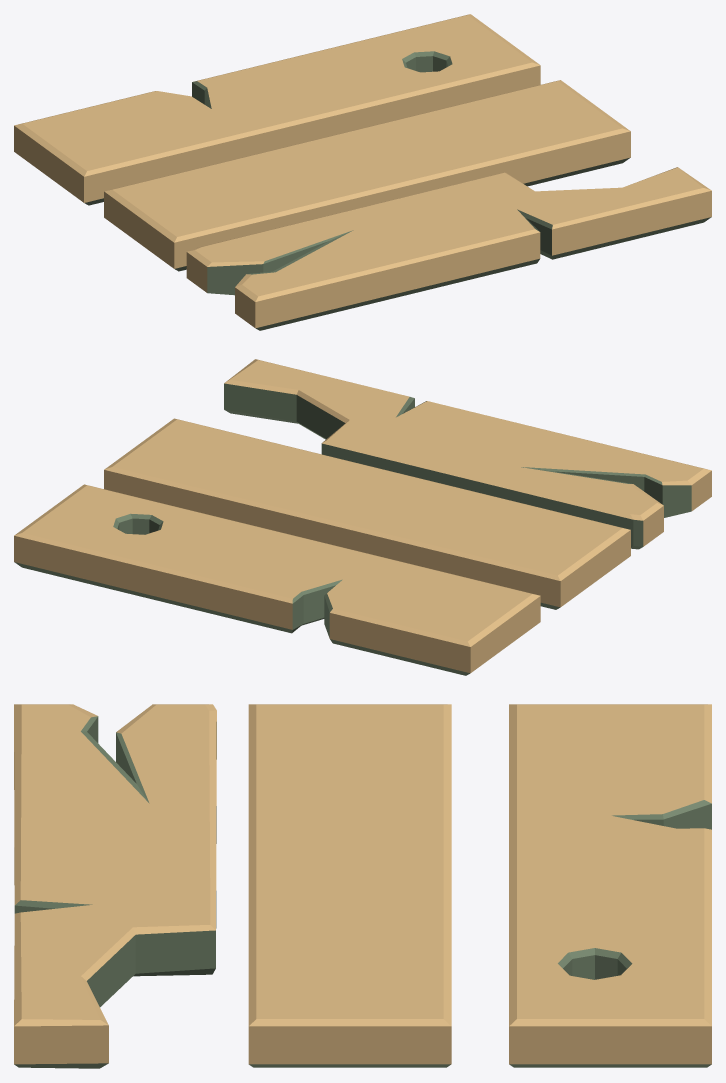
Rendered from Planks.fbx.
3 renders of one model, top to bottom at view 1: azimuth 30°, elevation 25°; view 2: azimuth 150°, elevation 25°; view 3: azimuth 270°, elevation 25°, orthographic. The views are drawn at different scales.
Visible parts, largest first — view 1: Plank.001, Plank, BoringPLank; view 2: Plank.001, BoringPLank, Plank; view 3: BoringPLank, Plank.001, Plank.
Boxes of the visible parts, <box> form: Plank.001: <box>14,14,540,205</box>; Plank: <box>186,167,711,330</box>; BoringPLank: <box>104,80,630,271</box>; Plank.001: <box>14,484,540,675</box>; BoringPLank: <box>104,418,630,609</box>; Plank: <box>224,359,711,549</box>; BoringPLank: <box>248,704,451,1067</box>; Plank.001: <box>509,704,711,1067</box>; Plank: <box>14,704,216,1068</box>.
Size of the model in its own units: 1 by 0.0709 by 0.9154.
